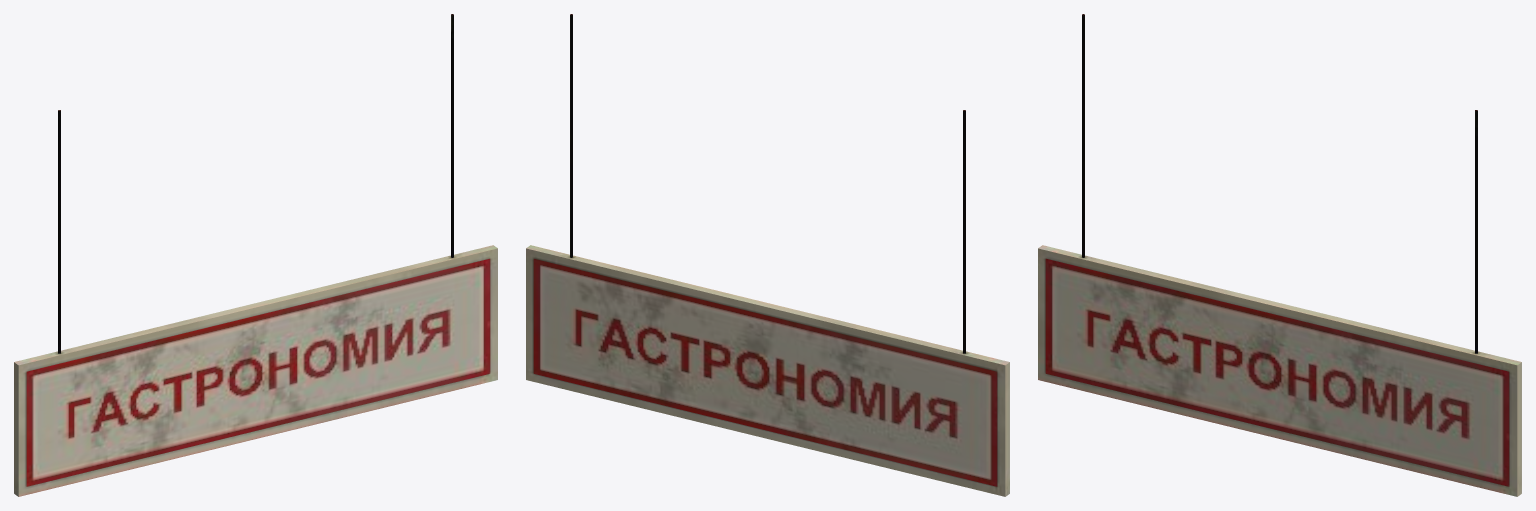
Rendered from sign_gastronomiya_lod1_web.glb.
3 views of the same model, side by side, from view 1: azimuth 30°, elevation 25°; view 2: azimuth 150°, elevation 25°; view 3: azimuth 330°, elevation 25° (orthographic).
Visible parts, largest first — view 1: SignGastronomiya_Body; view 2: SignGastronomiya_Body; view 3: SignGastronomiya_Body.
Part boxes in pixels (x1,y1,x2,y2): SignGastronomiya_Body: [14, 14, 497, 496]; SignGastronomiya_Body: [526, 14, 1009, 496]; SignGastronomiya_Body: [1038, 14, 1521, 496].
Bounding box in the file's own units: 1.22 × 0.91 × 0.021.
Materials: 1 (1 with a texture image).
